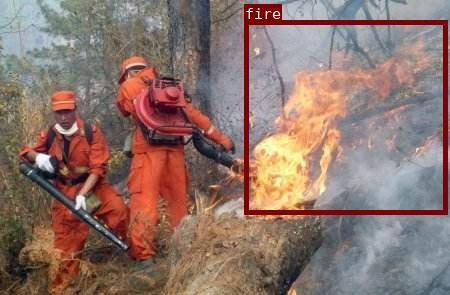fire: (243, 19, 446, 213)
